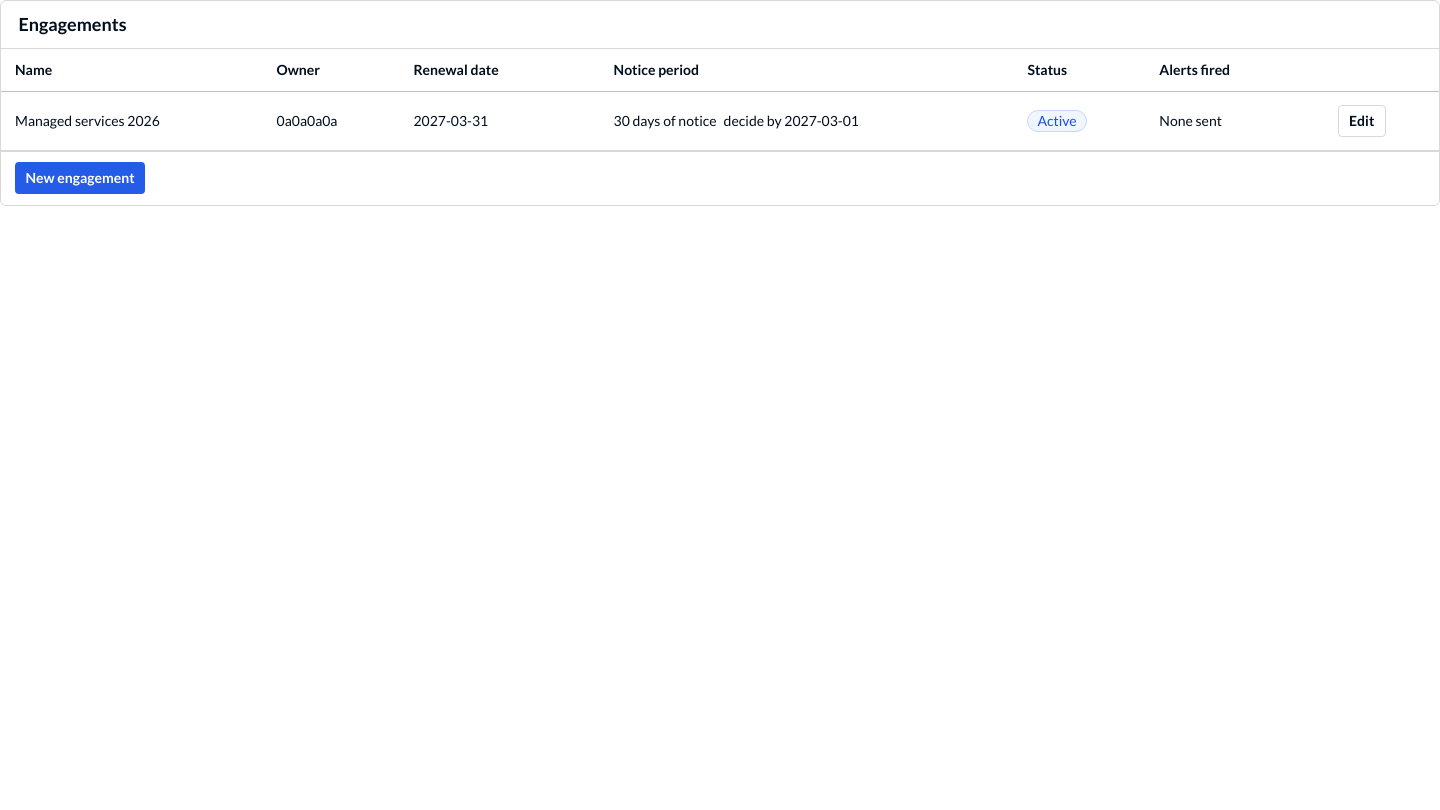
it: EngagementsPanel › words a stale version and closes onto the list the slice reloaded
Click the button with aria-label "Edit Managed services 2026". click: (1362, 121)
box: left=1338, top=105, right=1386, bottom=137
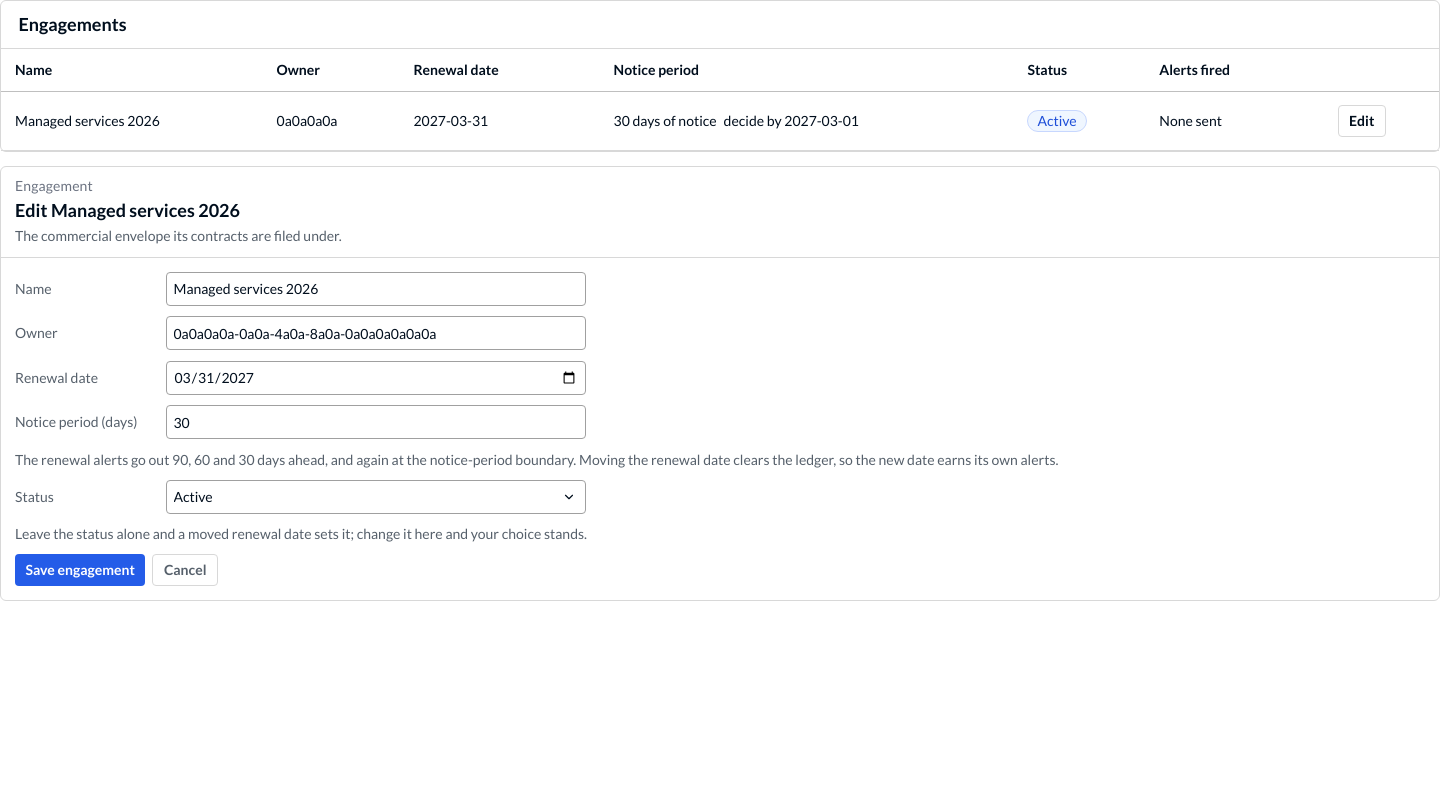
Replace the text in the field labelled "Name" with "Renamed". click: (376, 289)
box: left=166, top=272, right=586, bottom=306
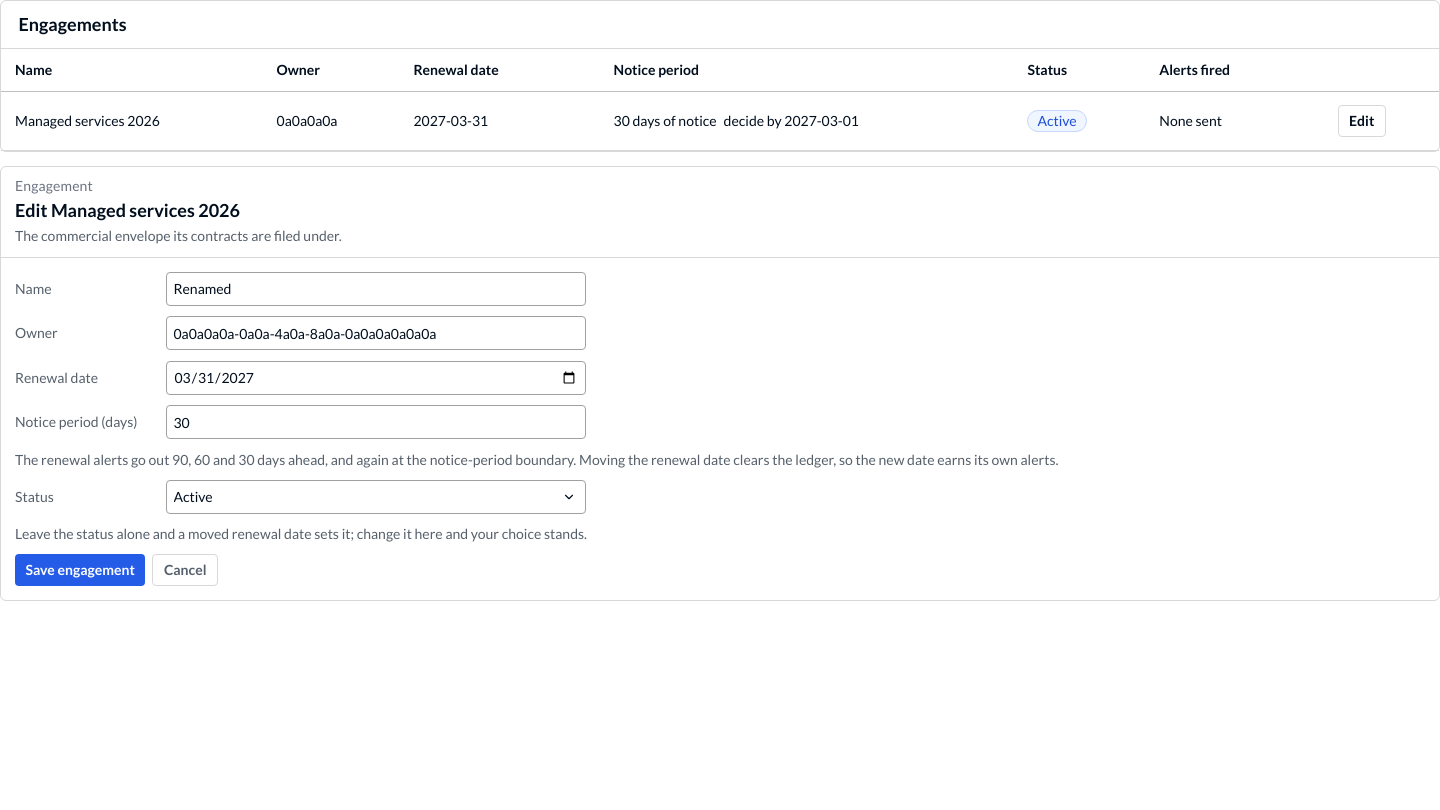
Click the button "Save engagement". click: (80, 570)
box: left=15, top=554, right=145, bottom=586
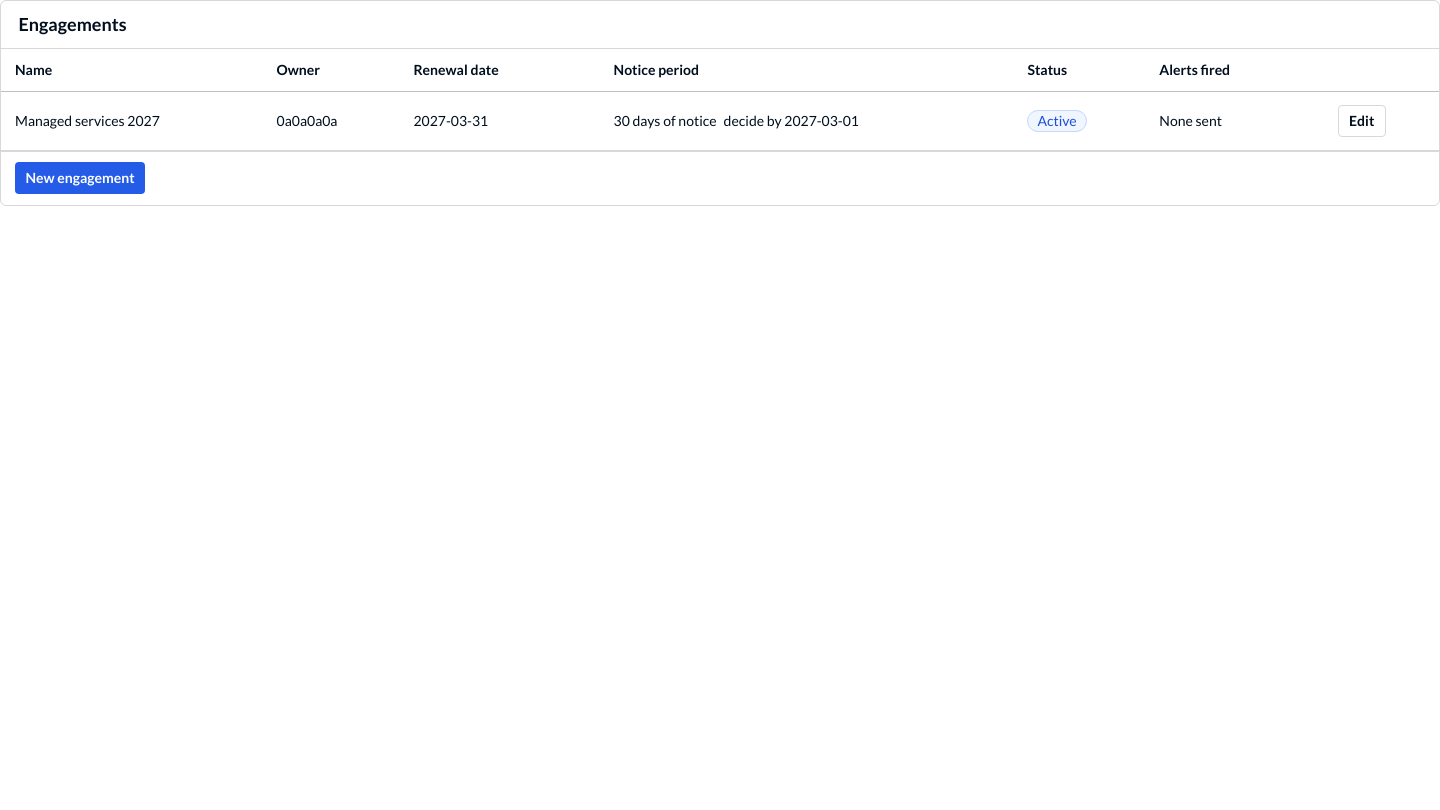
Now the text "Managed services 2027" is shown, box left=1, top=91, right=263, bottom=150
Now the button "Save engagement" is gone
